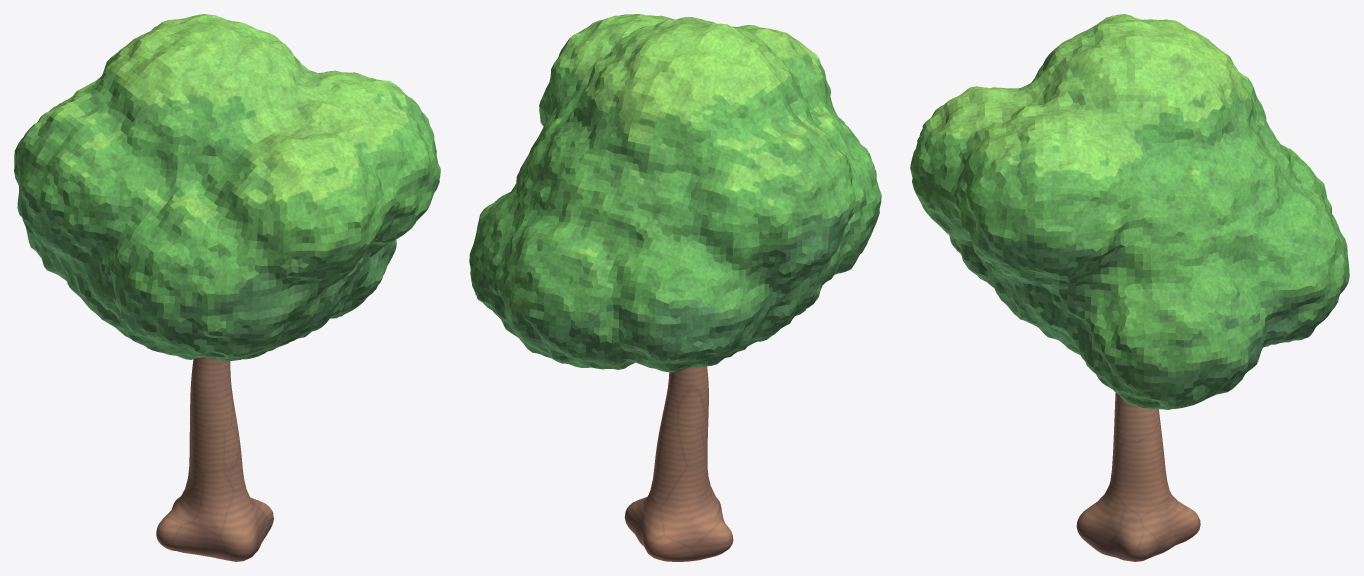
Rendered from WM_TreeRound_A.fbx.
The picture shows the model from 3 angles, left to right: view 1: azimuth 30°, elevation 25°; view 2: azimuth 150°, elevation 25°; view 3: azimuth 270°, elevation 25°; orthographic projection.
Parts seen in each view (by area): view 1: WM_TreeRound_A_LOD0; view 2: WM_TreeRound_A_LOD0; view 3: WM_TreeRound_A_LOD0.
Boxes of the visible parts, box(x1,y1,x2,y2) form: WM_TreeRound_A_LOD0: box(14, 14, 440, 561); WM_TreeRound_A_LOD0: box(469, 14, 881, 561); WM_TreeRound_A_LOD0: box(910, 14, 1349, 561).
Size of what is drawn, in the model's own units: 2.36 by 3.28 by 2.55.
